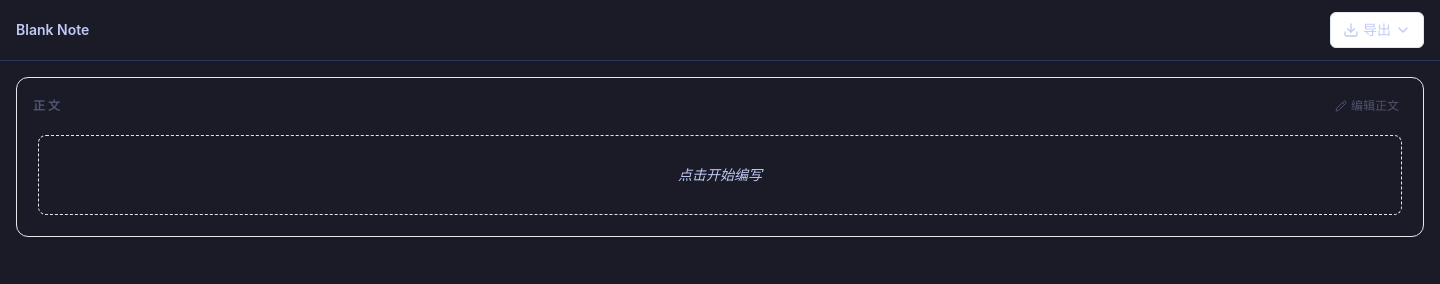
DocumentView › shows an actionable empty body state when a document has no editable assets
Expected: the button "编辑正文" is shown, [1327,94,1407,118]
Click the button "点击开始编写" at (720, 175), box [38,135,1402,215]
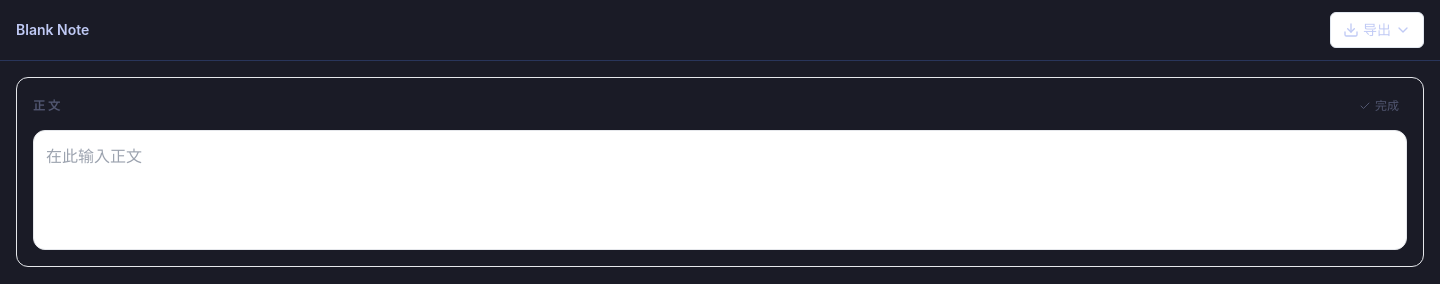
Expected: the field named "标题" holds "Blank Note", [16,20,1318,40]
Now the button "完成" is shown, box [1351,94,1407,118]
Now the text box with placeholder "在此输入正文" is empty, box [33,130,1407,250]
